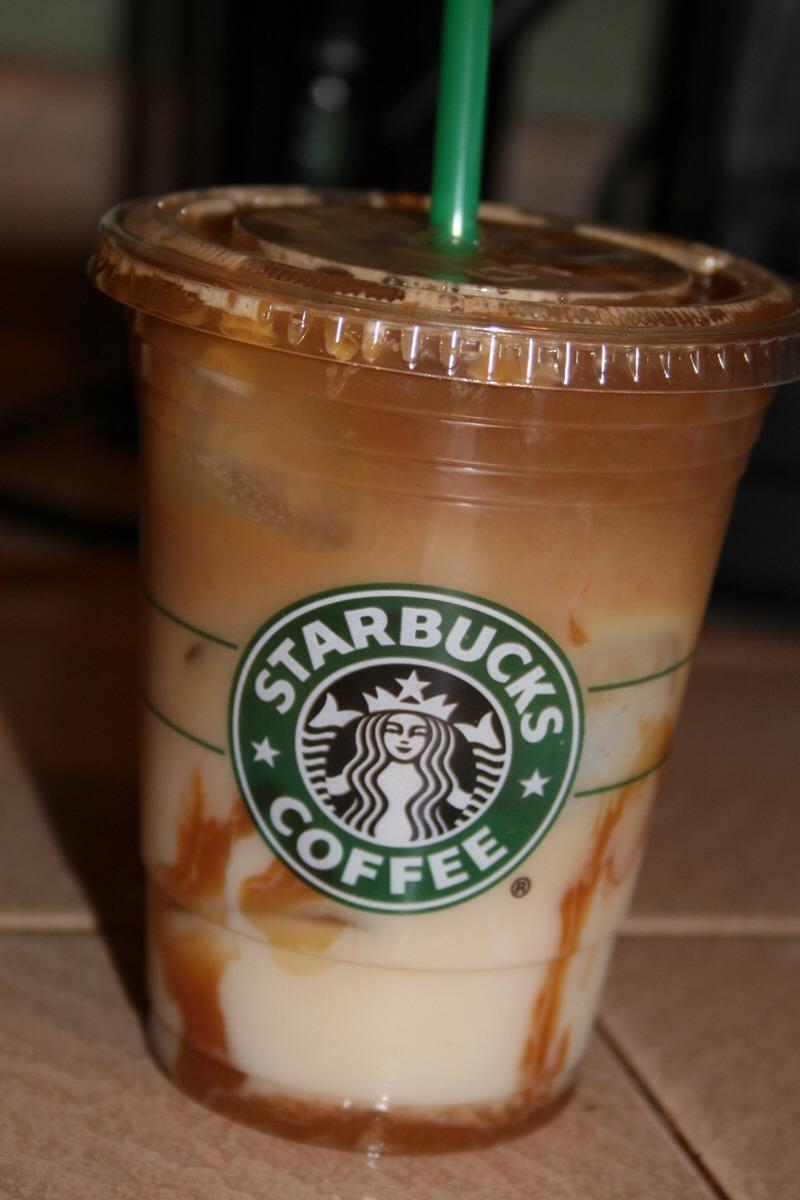cup-disposable: (86, 180, 799, 1162)
